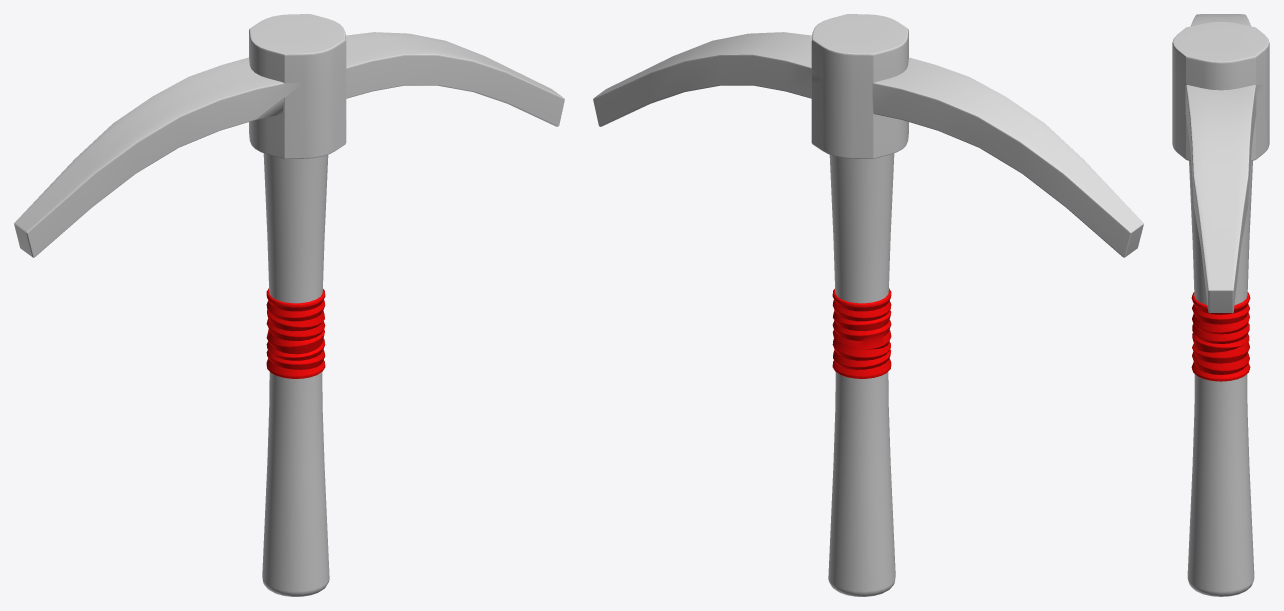
Rendered from axe 1.fbx.
3 renders of one model, left to right at view 1: azimuth 30°, elevation 25°; view 2: azimuth 150°, elevation 25°; view 3: azimuth 270°, elevation 25°, orthographic.
Visible parts, largest first — view 1: pCylinder11; view 2: pCylinder11; view 3: pCylinder11.
Part boxes in pixels (<box>): pCylinder11: <box>14,14,564,596</box>; pCylinder11: <box>593,14,1143,596</box>; pCylinder11: <box>1172,14,1269,596</box>.
Size of the model in its own units: 12.79 by 12.5 by 2.03.
